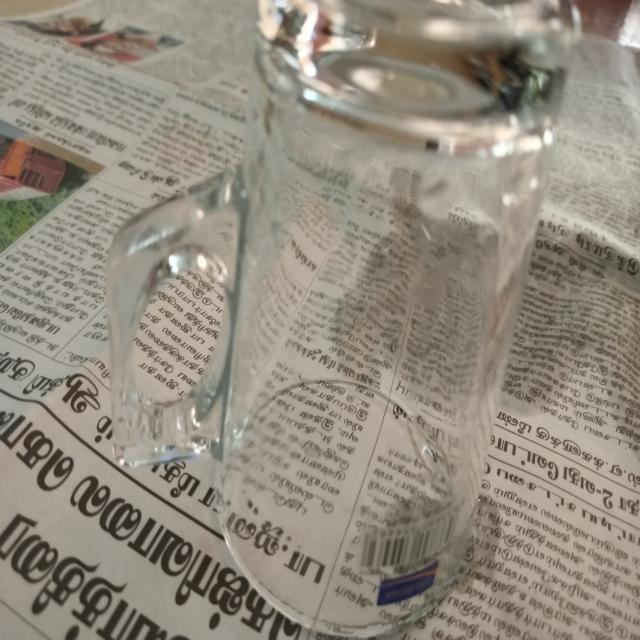glass-VX4N: (111, 3, 578, 631)
